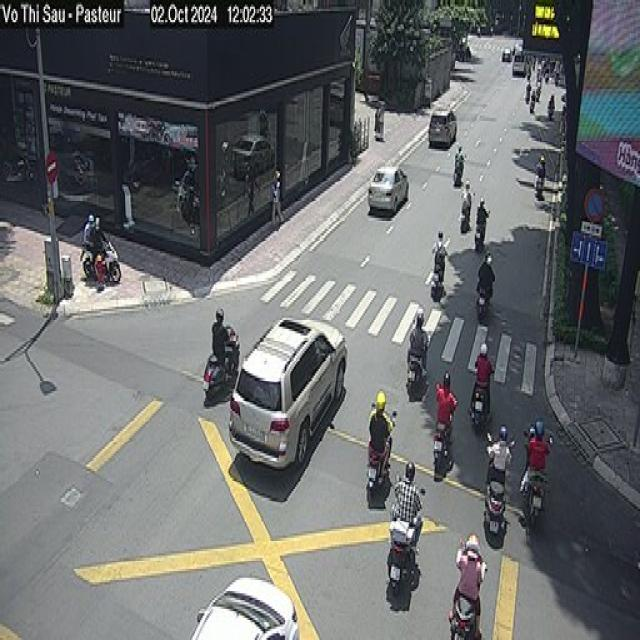car: (226, 311, 348, 471), (190, 576, 299, 638), (366, 164, 409, 216), (428, 109, 457, 147)
motorcycle: (202, 324, 240, 402), (382, 523, 420, 599), (80, 233, 121, 287), (519, 472, 550, 538), (432, 413, 453, 480), (448, 597, 480, 640), (485, 482, 507, 544), (468, 378, 490, 436), (430, 267, 445, 302)
person: (453, 532, 483, 602), (485, 424, 514, 486), (470, 342, 494, 416), (368, 387, 389, 469), (406, 306, 429, 378), (435, 369, 457, 444), (476, 251, 495, 311), (211, 307, 229, 369), (432, 229, 448, 284), (270, 167, 284, 222), (475, 195, 489, 249), (460, 178, 471, 229), (535, 153, 545, 198)
